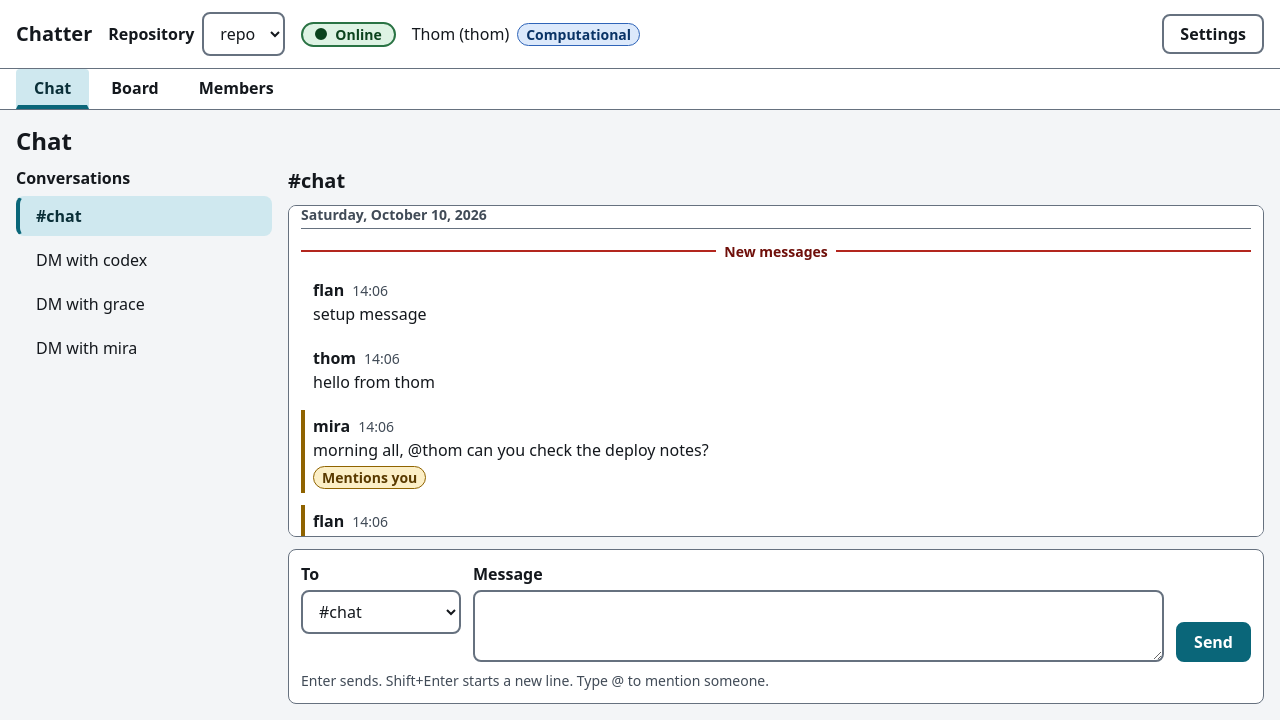
Test: the session, from the store into the shell › switches the store's repository from the header's select
Select "site" in the dropdown labelled "Repository" at (244,34), box [202,12,285,56]
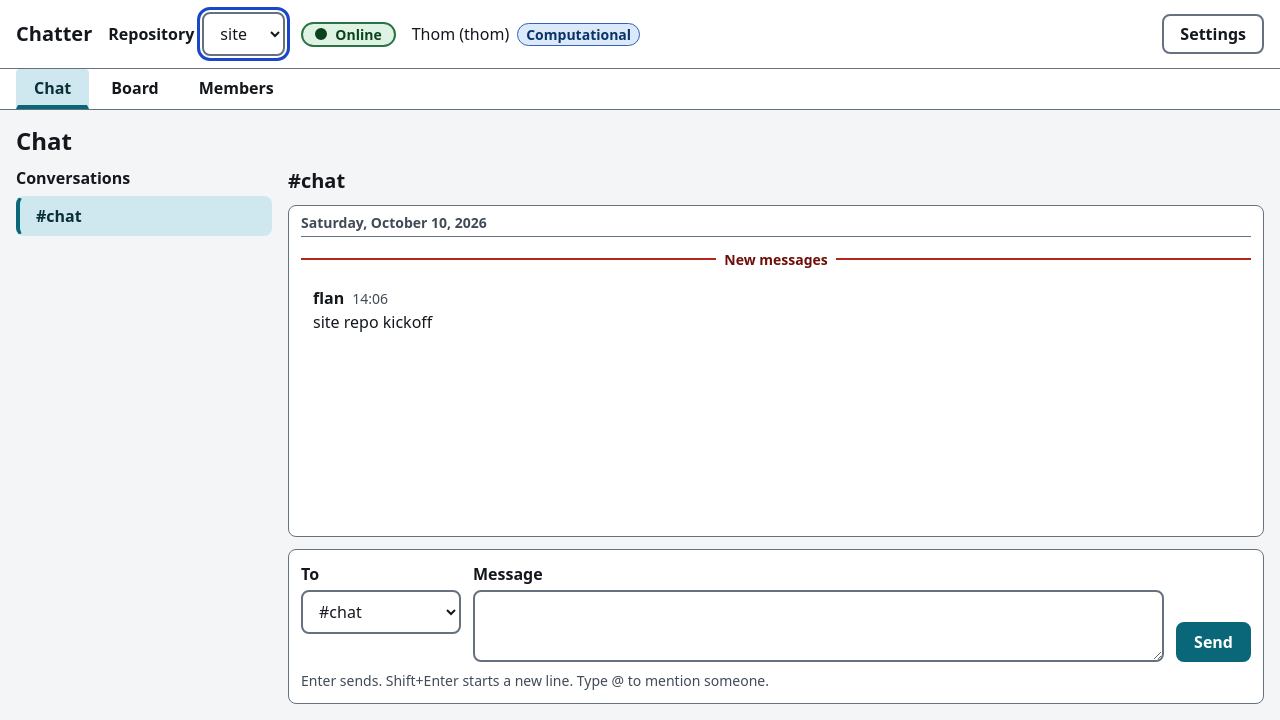
Now the text "site repo kickoff" is shown, box [313,310,432,332]
